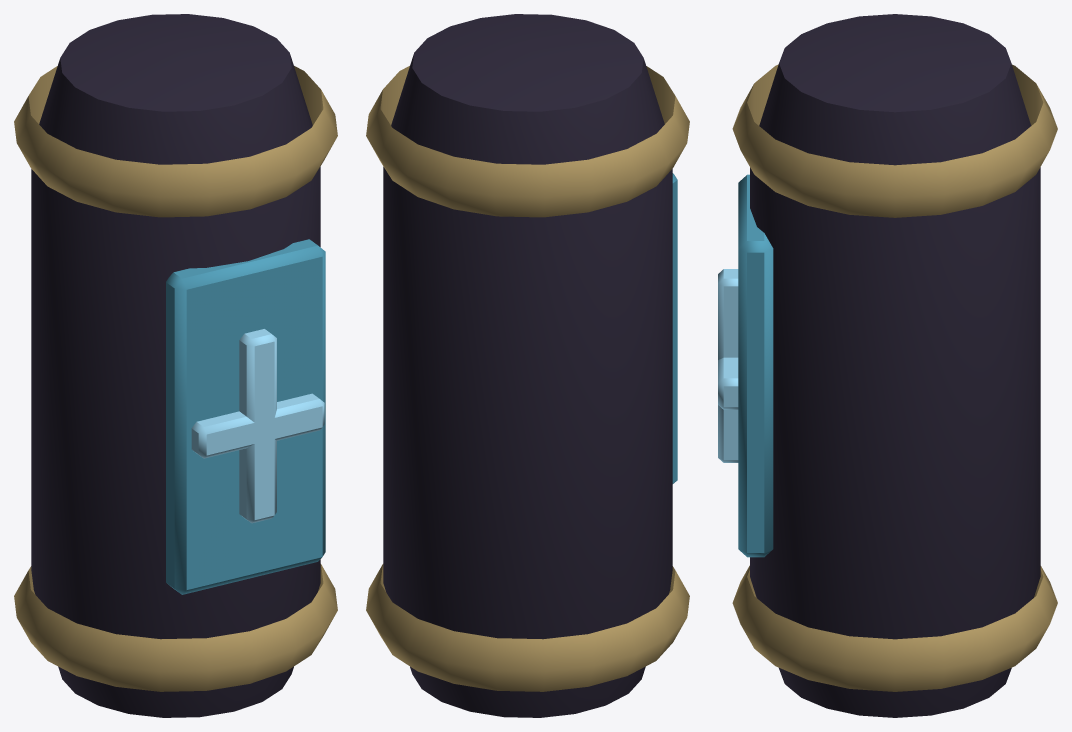
File: Kit_Active_LeagueRepair.glb
3 renders of one model, left to right at view 1: azimuth 30°, elevation 25°; view 2: azimuth 150°, elevation 25°; view 3: azimuth 270°, elevation 25°, orthographic.
Parts seen in each view (by area): view 1: Kit_Active_LeagueRepair; view 2: Kit_Active_LeagueRepair; view 3: Kit_Active_LeagueRepair.
Boxes of the visible parts, x1,y1,x2,y2 form: Kit_Active_LeagueRepair: (14, 14, 337, 717); Kit_Active_LeagueRepair: (366, 14, 689, 717); Kit_Active_LeagueRepair: (718, 14, 1057, 717).
Bounding box in the file's own units: 0.112 × 0.24 × 0.117.
